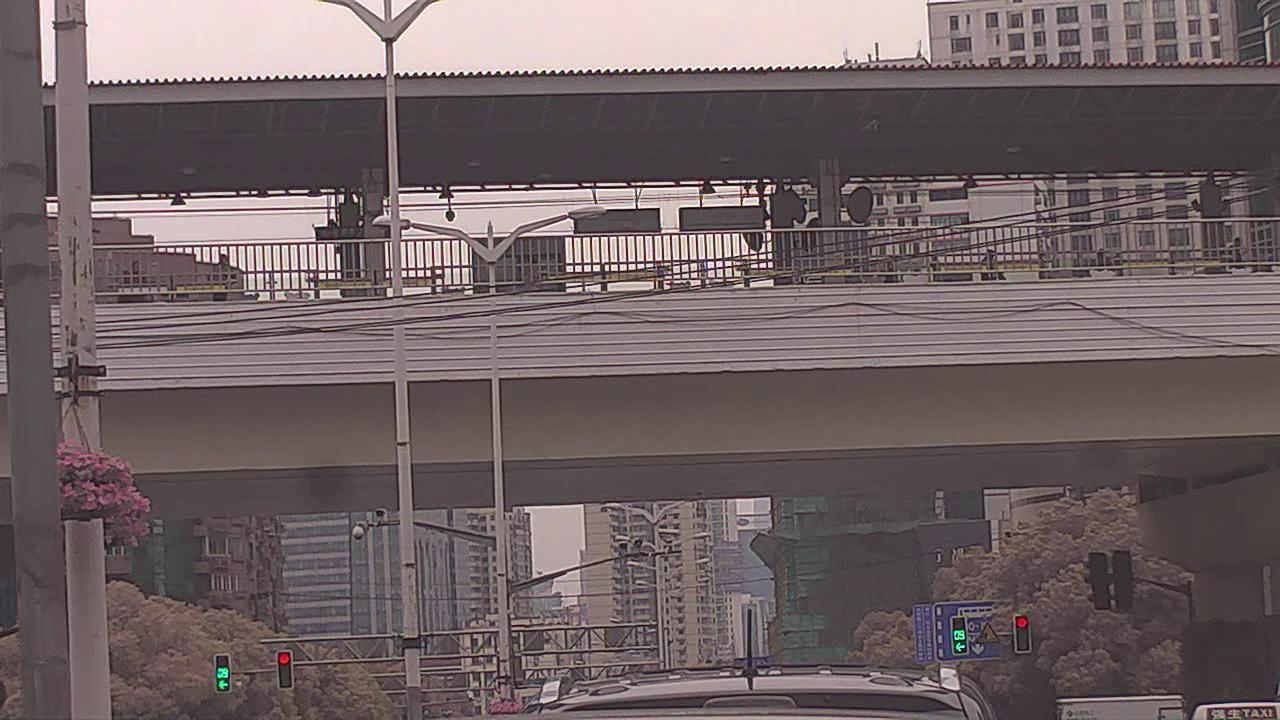traffic_light: (1015, 613, 1035, 652), (276, 650, 292, 687), (953, 612, 967, 653), (216, 654, 231, 688)
